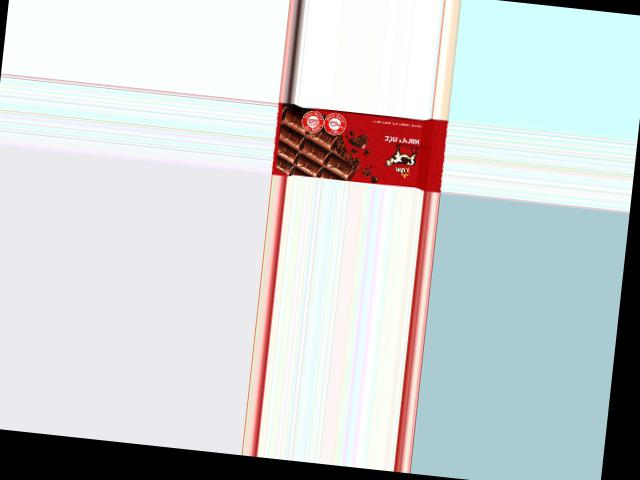chocolate: (273, 102, 449, 191)
